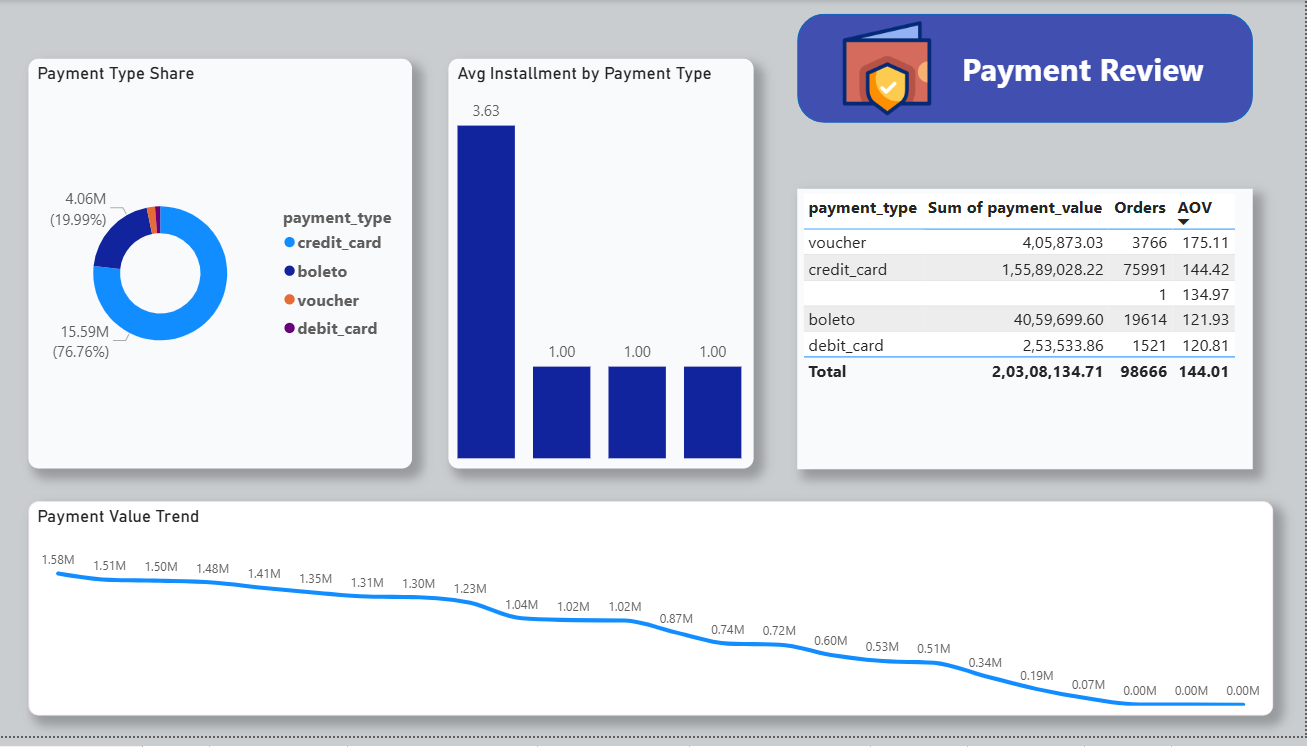

This screenshot's page, from the dashboard's own definition file:
{"tool":"powerbi","page":{"name":"Payments","canvas":[1280,720],"ordinal":6},"visuals":[{"type":"donutChart","title":"Payment Type Share","fields":{"Y":["public bi_fact_sales.Payment Value"],"Category":["public bi_fact_sales.payment_type"]},"box":[31.7,57.7,375.1,401.1],"z":0},{"type":"clusteredColumnChart","title":"Avg Installment by Payment Type","fields":{"Category":["public bi_fact_sales.payment_type"],"Y":["public bi_fact_sales.Avg Installments"]},"box":[442.9,57.7,298.7,401.1],"z":1000},{"type":"lineChart","title":"Payment Value Trend","fields":{"Category":["DimDate.Year-Month"],"Y":["Sum(public bi_fact_sales.payment_value)"]},"box":[31.7,490.5,1217.7,209.2],"z":2000},{"type":"tableEx","fields":{"Values":["public bi_fact_sales.payment_type","Sum(public bi_fact_sales.payment_value)","public bi_fact_sales.Orders","public bi_fact_sales.AOV"]},"box":[783.4,184.7,445.8,274.1],"z":3000},{"type":"shape","box":[783.4,13,445.8,106.8],"z":4000},{"type":"image","box":[793.5,20.2,155.8,92.3],"z":5000}]}

Visuals, with their boxes in screenshot pixels (x1, y1, x2, y2), scaled from the page's 1280x720 canvas onto the 1307x747 screenshot:
"Payment Type Share" donutChart: box(32, 60, 415, 476)
"Avg Installment by Payment Type" clusteredColumnChart: box(452, 60, 757, 476)
"Payment Value Trend" lineChart: box(32, 509, 1276, 726)
tableEx - public bi_fact_sales.payment_type x Sum(public bi_fact_sales.payment_value): box(800, 192, 1255, 476)
shape: box(800, 13, 1255, 124)
image: box(810, 21, 969, 117)
